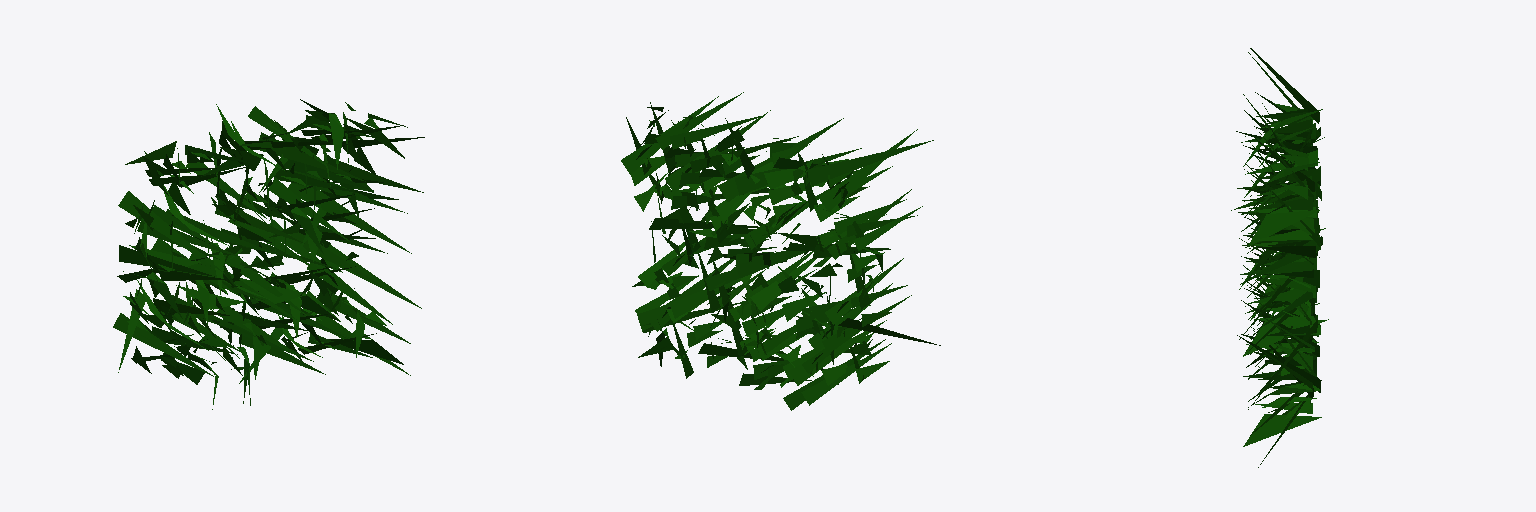
File: grass_degraded.obj
3 renders of one model, left to right at view 1: azimuth 30°, elevation 25°; view 2: azimuth 150°, elevation 25°; view 3: azimuth 270°, elevation 25°, orthographic.
Parts seen in each view (by area): view 1: GrassLong.989_Cube.023; view 2: GrassLong.989_Cube.023; view 3: GrassLong.989_Cube.023.
Part boxes in pixels (x1,y1,x2,y2): GrassLong.989_Cube.023: (113,99,424,409); GrassLong.989_Cube.023: (621,92,940,410); GrassLong.989_Cube.023: (1231,48,1328,467).
Bounding box in the file's own units: 8.28 × 7.38 × 2.26.